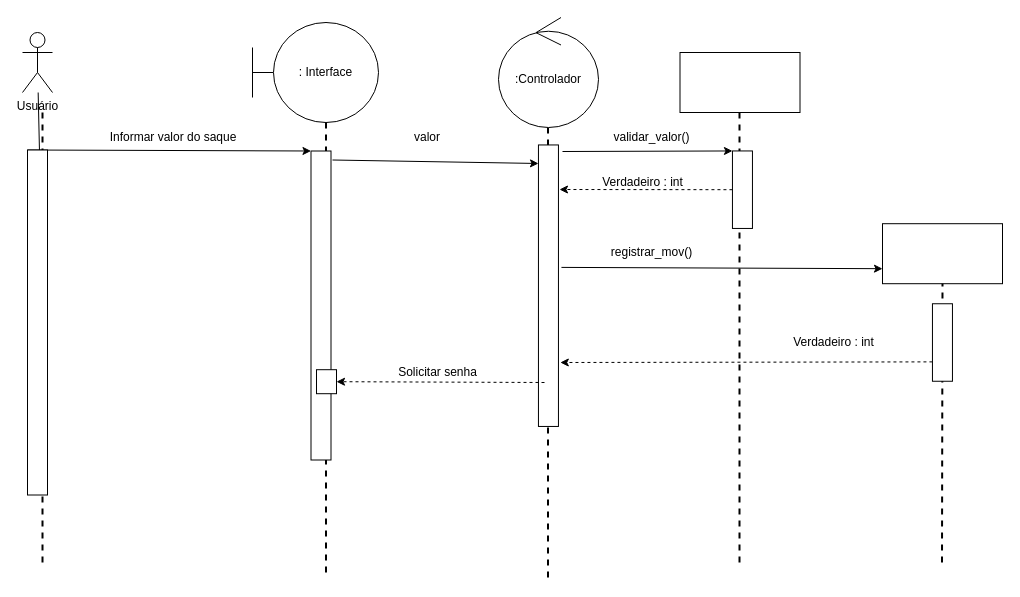
Some shapes in this 1020 by 597 pixel diagram are drawn without their labels. Here are the shapes that lost their labels. From the top down, the centre of each, then its label:
point (739, 82): : Conta
point (942, 253): Movimento
